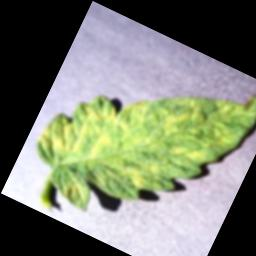Leaf_Mold: (19, 17, 256, 256)
